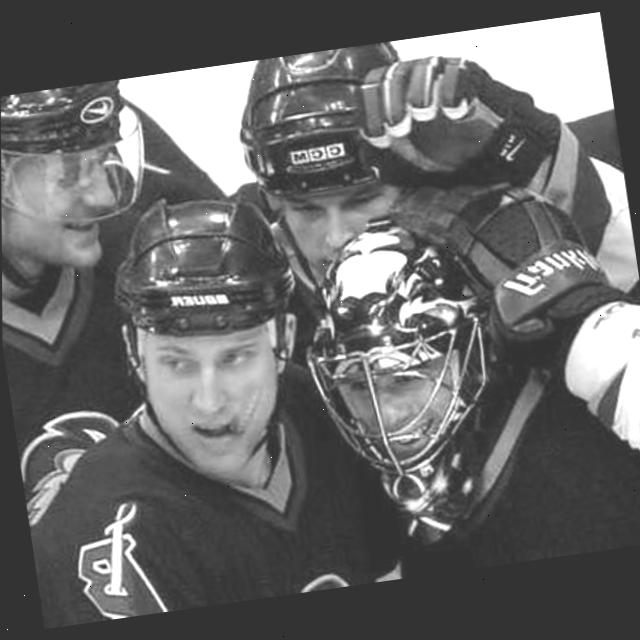face: (116, 283, 319, 497), (1, 135, 127, 285), (331, 331, 459, 475), (270, 160, 415, 282)
